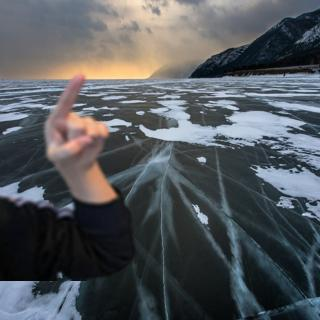IRRITATED: (41, 71, 111, 174)
